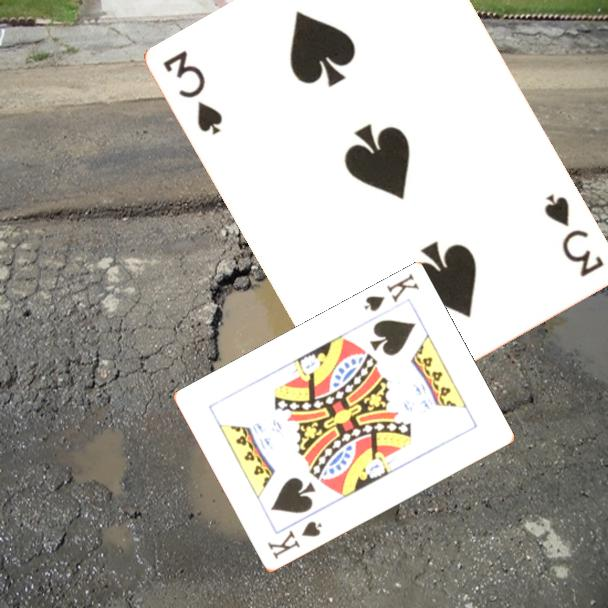s03: (160, 46, 226, 138), (541, 190, 607, 280)
s13: (361, 270, 422, 315), (264, 518, 325, 562)
